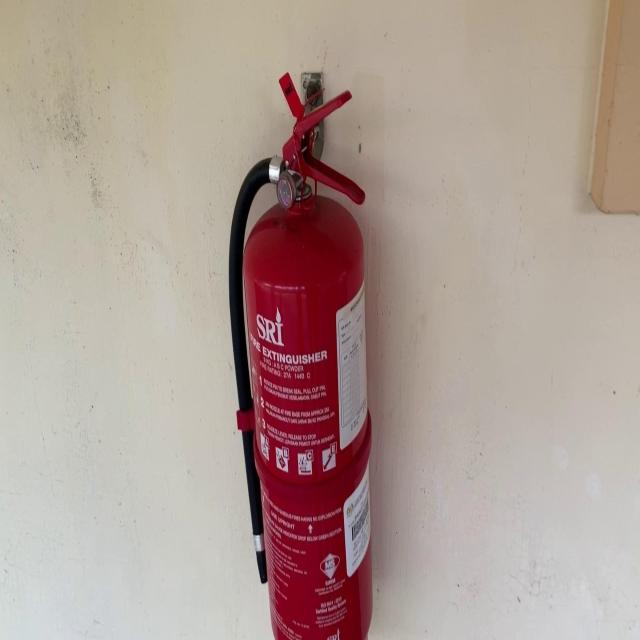fire_extinguisher: (224, 67, 377, 639)
